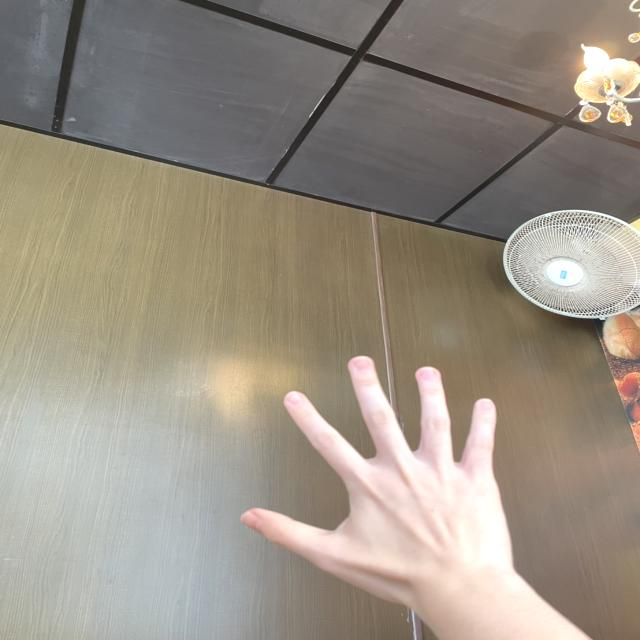no_glove: (221, 343, 541, 622)
